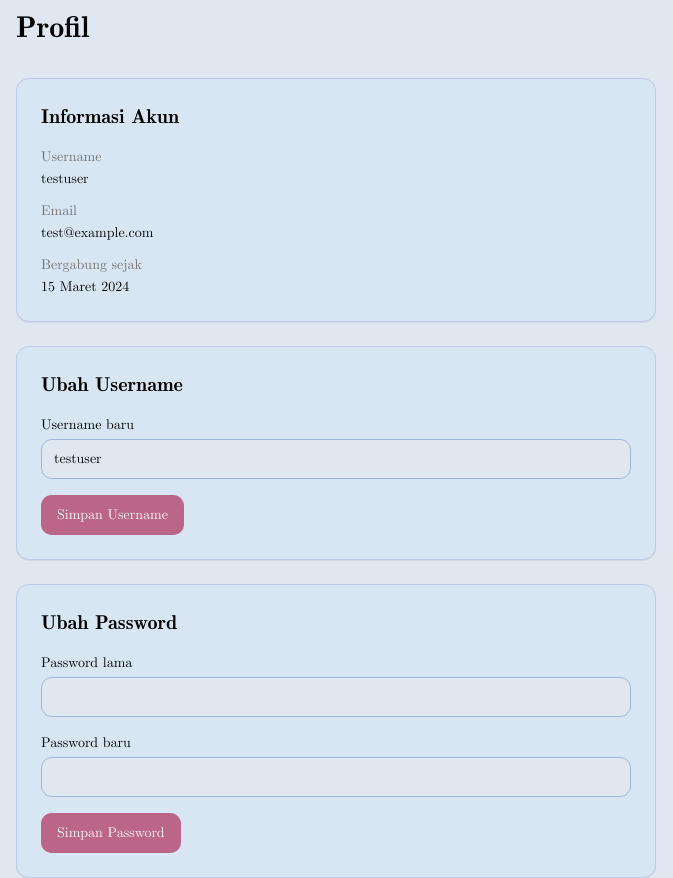
Test case: ProfilePage › ubah password › menampilkan error validasi client-side ketika password baru sama dengan password lama
Type "SamePass123" into the password field labelled "Password lama" at (336, 697), box left=41, top=677, right=631, bottom=717
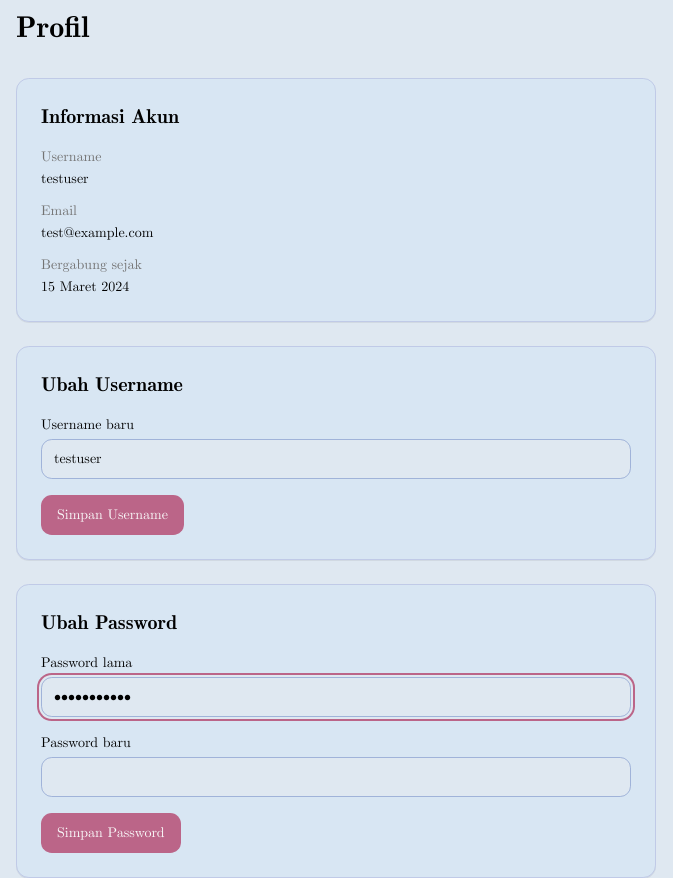
Type "SamePass123" into the password field labelled "Password baru" at (336, 777), box left=41, top=757, right=631, bottom=797
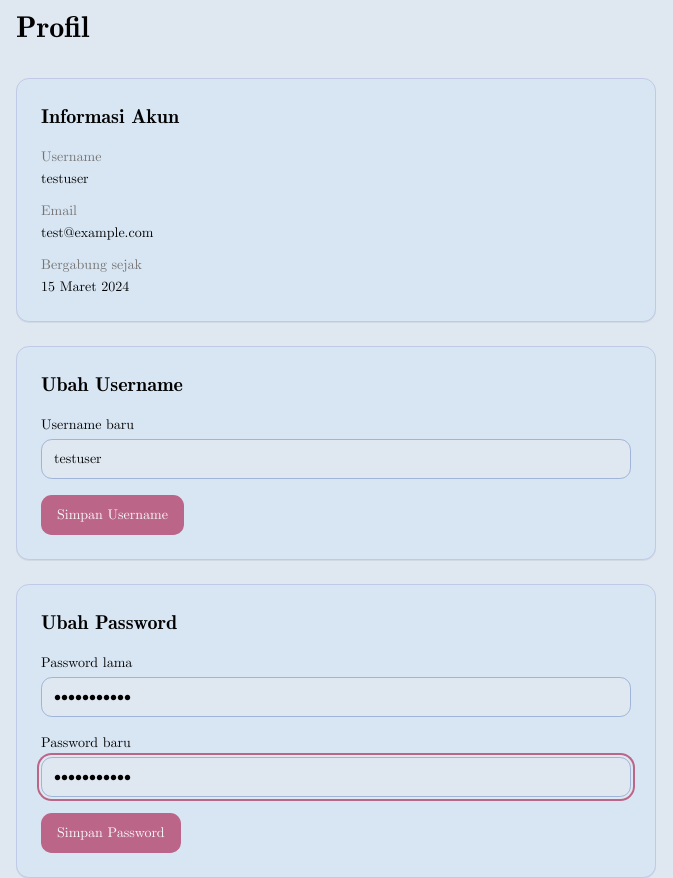
Click the button "Simpan Password" at (111, 833), box left=41, top=813, right=181, bottom=853
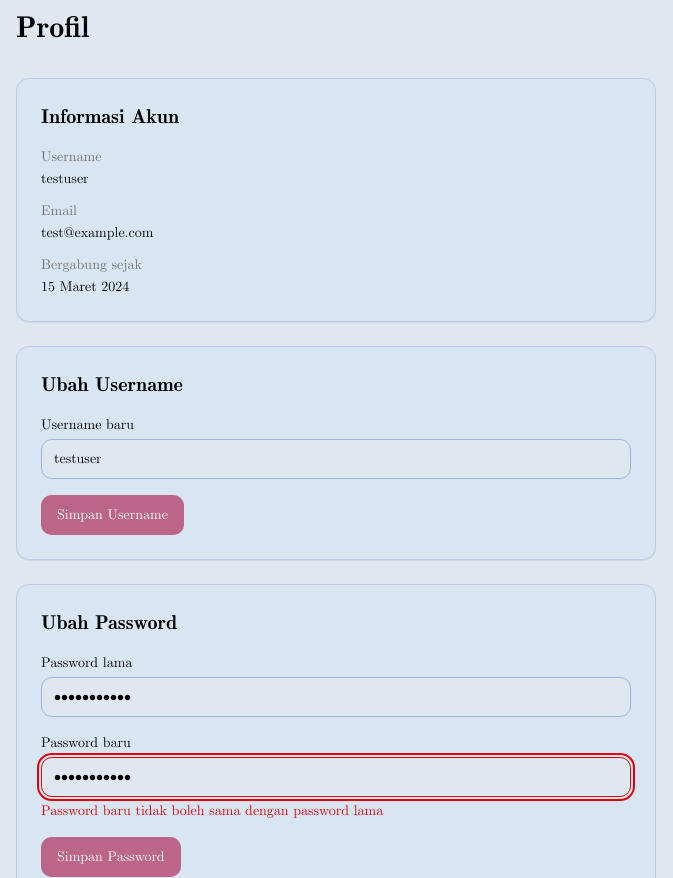
Check: the text "Password baru tidak boleh sama dengan password lama" is shown, box left=41, top=804, right=383, bottom=818
